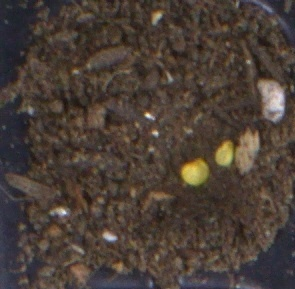chilli seed: (180, 157, 210, 187), (213, 138, 235, 168)
